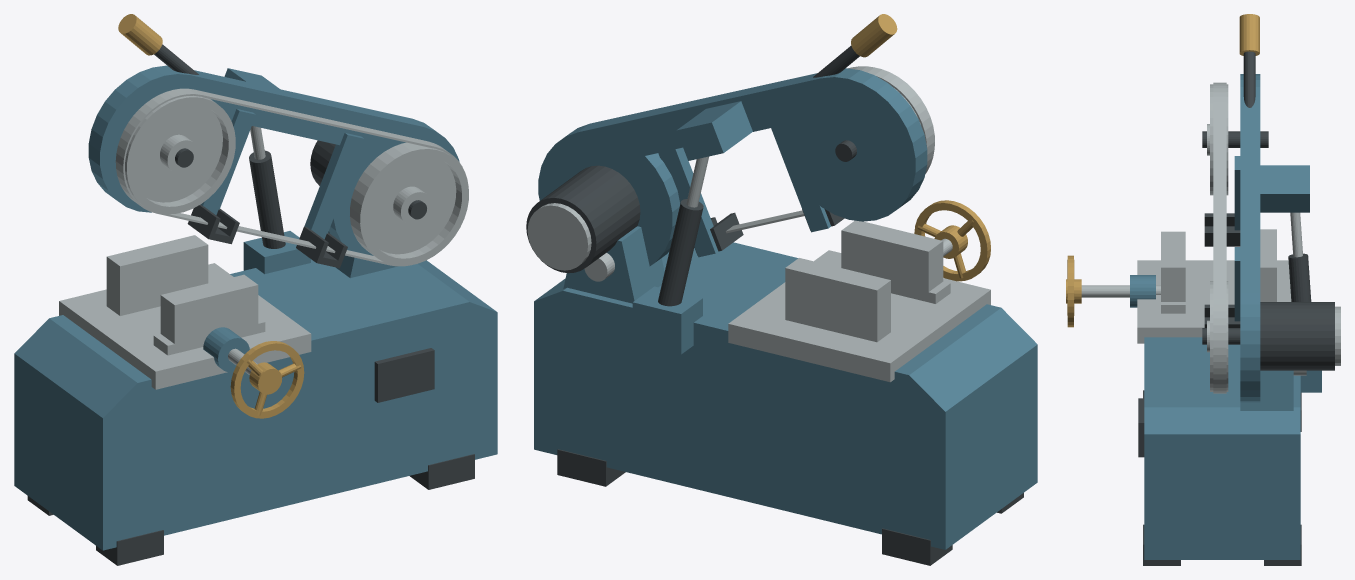
The picture shows the model from 3 angles, left to right: view 1: azimuth 30°, elevation 25°; view 2: azimuth 150°, elevation 25°; view 3: azimuth 270°, elevation 25°; orthographic projection. The views are drawn at different scales.
Parts seen in each view (by area): view 1: WholeLongLowSteppedMachineCabinet, WholeRaisedRoundedEndRearBow, WholeSteppedBandWheel0, WholeSteppedBandWheel1, WholeTransverseViseBedPlate, WholeFrontViseJawAndLowHeel, WholeFixedRearViseJaw, WholeContinuousBluntClosedBand, WholeBlankFrontControlPanel, WholeLowGuideCarrier, WholeFixedDescentStrutBarrel, WholeOpenViseHandwheelRing (+11 smaller); view 2: WholeLongLowSteppedMachineCabinet, WholeRaisedRoundedEndRearBow, WholeTransverseViseBedPlate, WholeFixedRearViseJaw, WholeFrontViseJawAndLowHeel, WholeRearWheelMotorExterior, WholeRightHeadPivotStandard, WholeDescentStrutLowerRoot, WholeRearMotorEndCap, WholeDescentStrutBowRoot, WholeFixedDescentStrutBarrel, WholeContinuousBluntClosedBand (+8 smaller); view 3: WholeLongLowSteppedMachineCabinet, WholeRaisedRoundedEndRearBow, WholeRearWheelMotorExterior, WholeTransverseViseBedPlate, WholeContinuousBluntClosedBand, WholeDescentStrutBowRoot, WholeFrontViseJawAndLowHeel, WholeRightHeadPivotStandard, WholeFixedRearViseJaw, WholeFixedDescentStrutBarrel, WholeSteppedBandWheel1, WholeSteppedBandWheel0 (+13 smaller).
Boxes of the visible parts, left/top/right/bottom form: WholeLongLowSteppedMachineCabinet: left=14, top=259, right=497, bottom=550; WholeRaisedRoundedEndRearBow: left=88, top=65, right=459, bottom=264; WholeSteppedBandWheel0: left=350, top=142, right=468, bottom=265; WholeSteppedBandWheel1: left=125, top=95, right=235, bottom=214; WholeTransverseViseBedPlate: left=59, top=263, right=311, bottom=389; WholeFrontViseJawAndLowHeel: left=153, top=274, right=265, bottom=355; WholeFixedRearViseJaw: left=106, top=235, right=208, bottom=315; WholeContinuousBluntClosedBand: left=115, top=88, right=468, bottom=266; WholeBlankFrontControlPanel: left=374, top=348, right=434, bottom=402; WholeLowGuideCarrier: left=304, top=133, right=363, bottom=239; WholeFixedDescentStrutBarrel: left=249, top=150, right=285, bottom=248; WholeOpenViseHandwheelRing: left=230, top=341, right=304, bottom=418; WholeLongLowSteppedMachineCabinet: left=534, top=242, right=1037, bottom=549; WholeRaisedRoundedEndRearBow: left=538, top=68, right=927, bottom=266; WholeTransverseViseBedPlate: left=728, top=250, right=990, bottom=382; WholeFixedRearViseJaw: left=785, top=258, right=890, bottom=342; WholeFrontViseJawAndLowHeel: left=837, top=220, right=950, bottom=303; WholeRearWheelMotorExterior: left=526, top=165, right=640, bottom=273; WholeRightHeadPivotStandard: left=563, top=226, right=664, bottom=303; WholeDescentStrutLowerRoot: left=632, top=286, right=702, bottom=354; WholeRearMotorEndCap: left=527, top=203, right=591, bottom=270; WholeDescentStrutBowRoot: left=676, top=101, right=752, bottom=160; WholeFixedDescentStrutBarrel: left=658, top=199, right=703, bottom=306; WholeContinuousBluntClosedBand: left=725, top=66, right=934, bottom=233; WholeLongLowSteppedMachineCabinet: left=1144, top=337, right=1300, bottom=559; WholeRaisedRoundedEndRearBow: left=1240, top=74, right=1260, bottom=402; WholeRearWheelMotorExterior: left=1260, top=302, right=1334, bottom=370; WholeTransverseViseBedPlate: left=1137, top=260, right=1291, bottom=343; WholeContinuousBluntClosedBand: left=1213, top=82, right=1226, bottom=393; WholeDescentStrutBowRoot: left=1260, top=165, right=1309, bottom=212; WholeFrontViseJawAndLowHeel: left=1161, top=231, right=1185, bottom=313; WholeRightHeadPivotStandard: left=1240, top=370, right=1293, bottom=410; WholeFixedRearViseJaw: left=1260, top=229, right=1276, bottom=301; WholeFixedDescentStrutBarrel: left=1288, top=253, right=1311, bottom=301; WholeSteppedBandWheel1: left=1207, top=84, right=1228, bottom=195; WholeSteppedBandWheel0: left=1207, top=281, right=1228, bottom=391.
Bounding box in the file's own units: 1.78 × 2.01 × 1.16.
